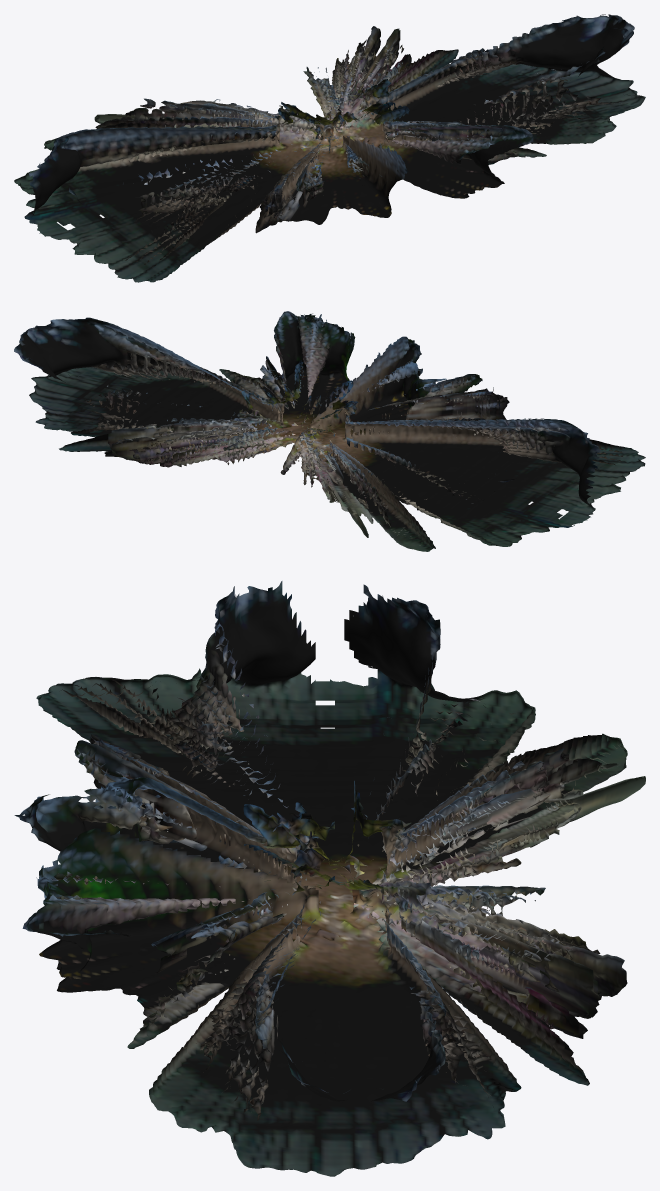
The model's file is glittering-butterfly-orchard_collider.glb.
The picture shows the model from 3 angles, top to bottom: view 1: azimuth 30°, elevation 25°; view 2: azimuth 150°, elevation 25°; view 3: azimuth 270°, elevation 25°; orthographic projection. The views are drawn at different scales.
Parts seen in each view (by area): view 1: world; view 2: world; view 3: world.
Boxes of the visible parts, box(x1,y1,x2,y2) form: world: box(14, 14, 645, 282); world: box(14, 311, 645, 551); world: box(14, 581, 645, 1176).
Size of the model in its own units: 101 by 12.06 by 52.31.
